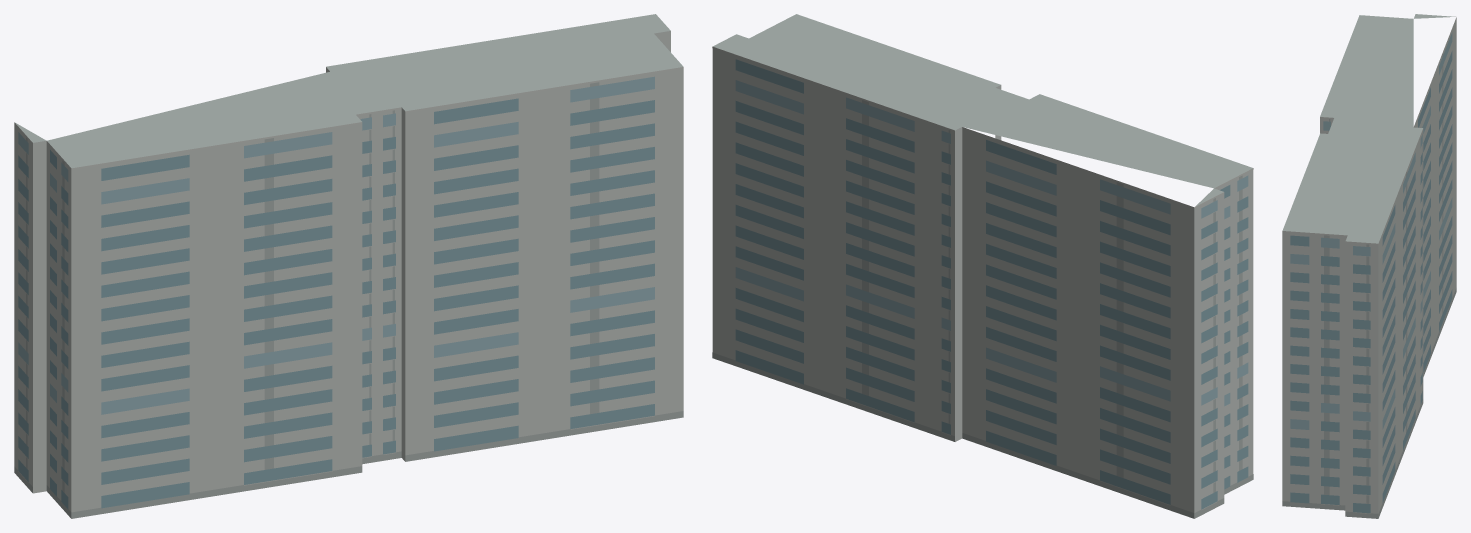
File: residential-ee63eb89-7ce3-41c1-bf3f-29f5cb891c2f.glb
3 renders of one model, left to right at view 1: azimuth 30°, elevation 25°; view 2: azimuth 150°, elevation 25°; view 3: azimuth 270°, elevation 25°, orthographic. The views are drawn at different scales.
Parts seen in each view (by area): view 1: residential-ee63eb89-7ce3-41c1-bf3f-29f5cb891c2f.tmp; view 2: residential-ee63eb89-7ce3-41c1-bf3f-29f5cb891c2f.tmp; view 3: residential-ee63eb89-7ce3-41c1-bf3f-29f5cb891c2f.tmp.
Part boxes in pixels (x1=…): residential-ee63eb89-7ce3-41c1-bf3f-29f5cb891c2f.tmp: x1=14, y1=14, x2=683, y2=518; residential-ee63eb89-7ce3-41c1-bf3f-29f5cb891c2f.tmp: x1=712, y1=14, x2=1253, y2=518; residential-ee63eb89-7ce3-41c1-bf3f-29f5cb891c2f.tmp: x1=1282, y1=14, x2=1456, y2=518.
Size of the model in its own units: 81.86 by 45.75 by 26.24.
